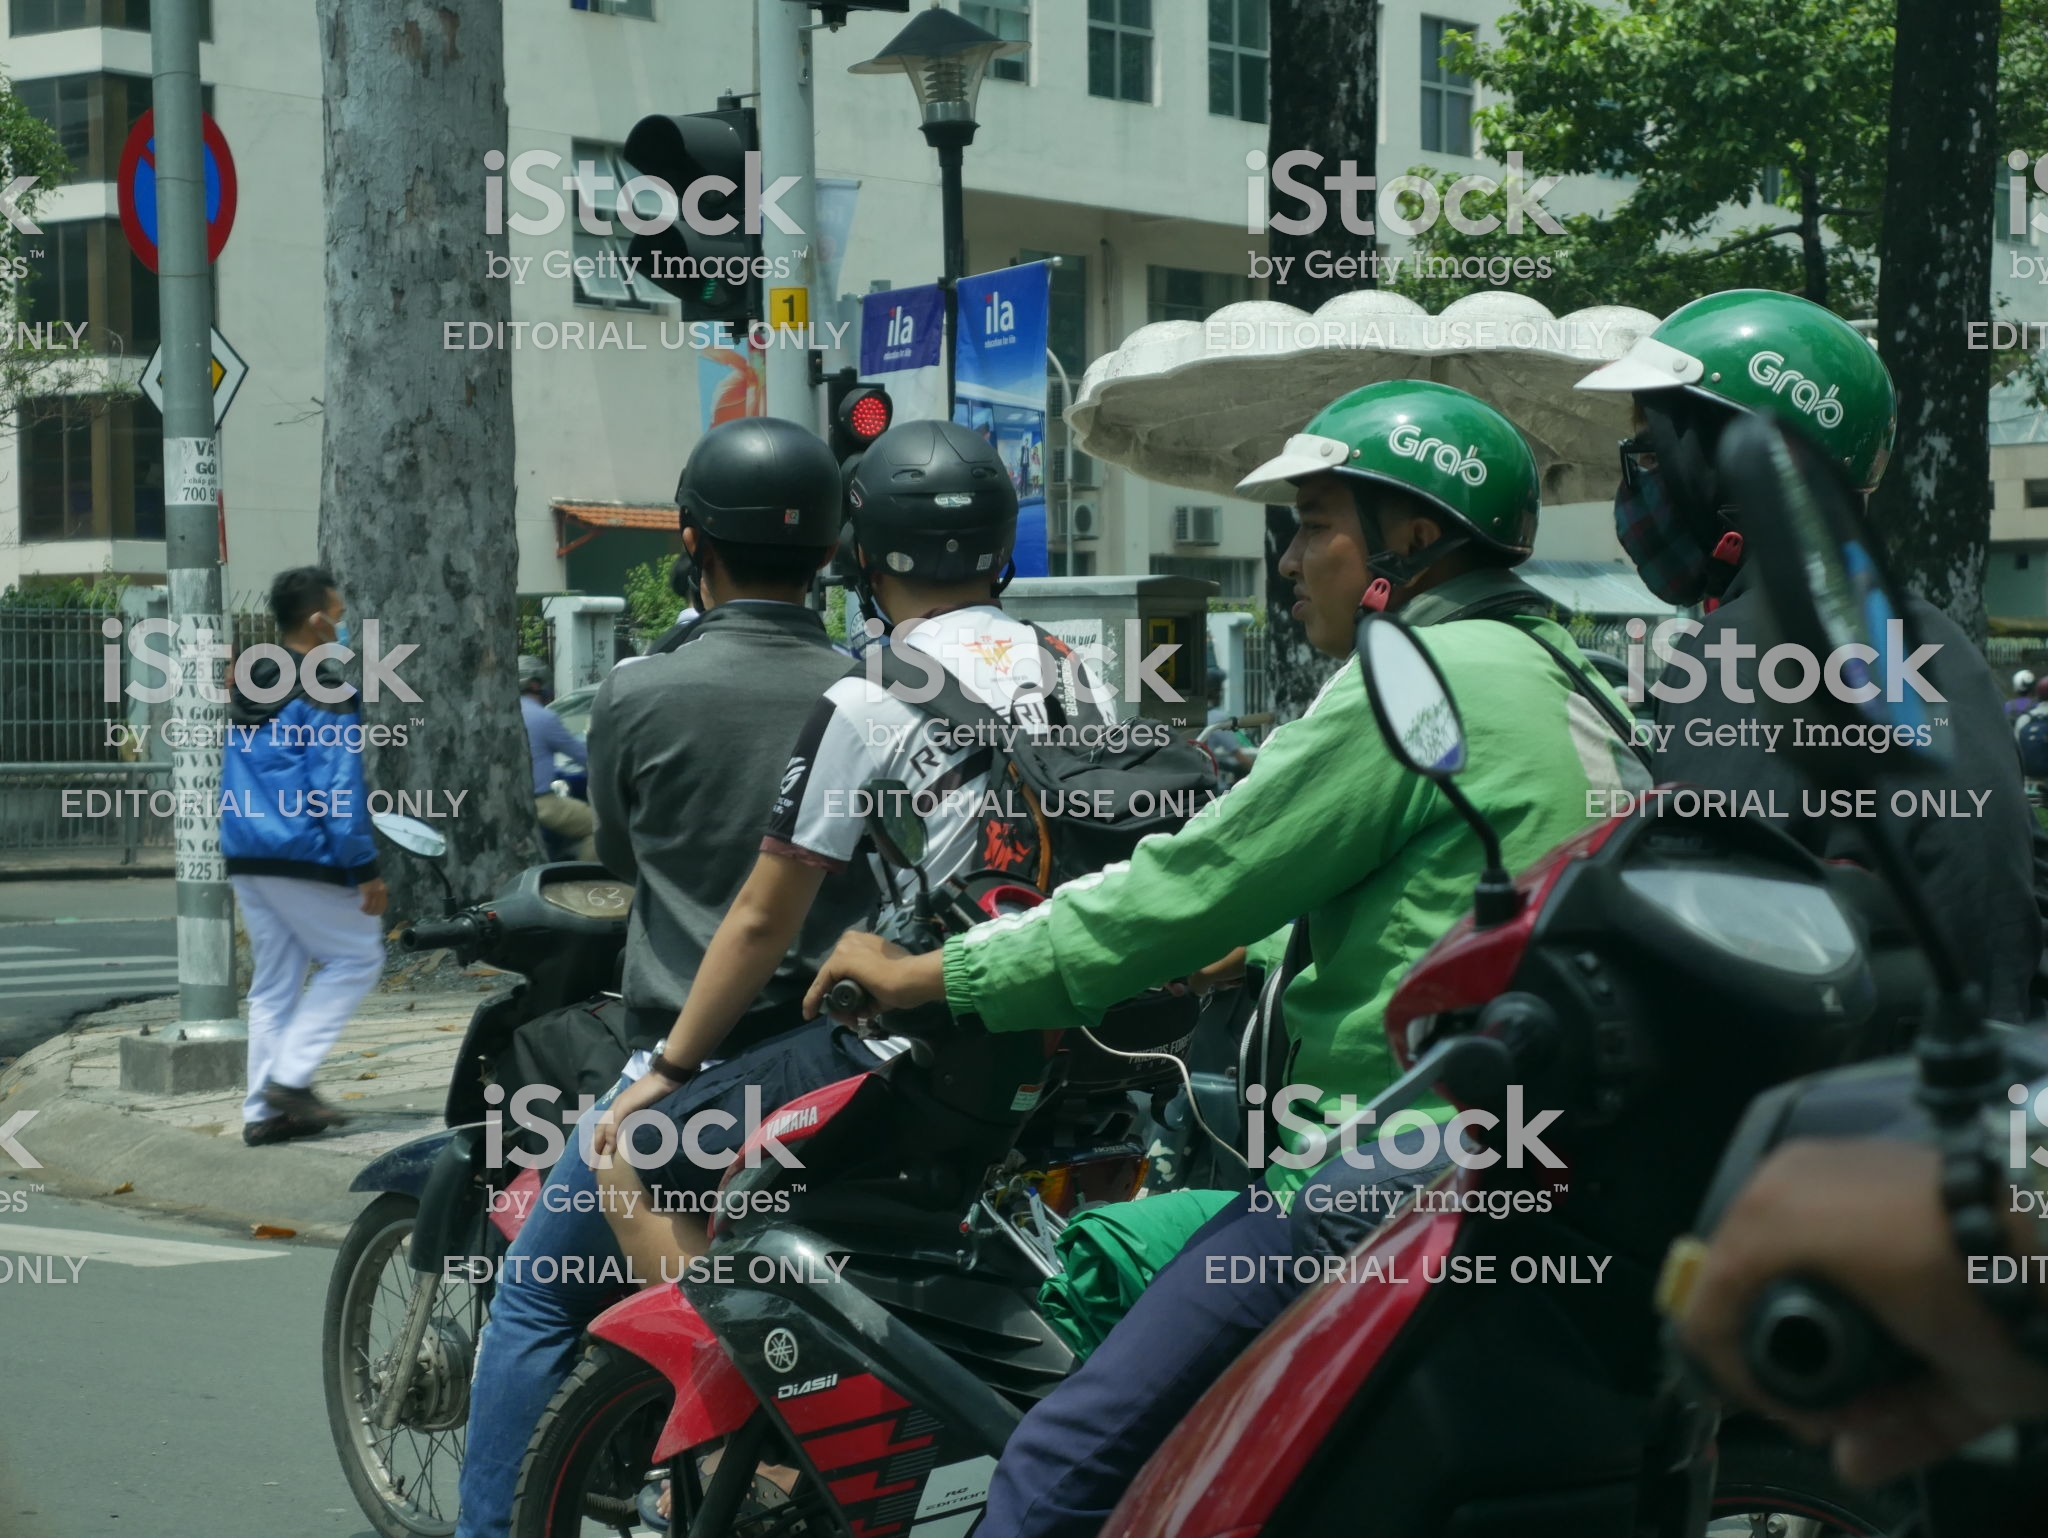helmet: (1623, 267, 1916, 465), (1326, 380, 1584, 543), (866, 417, 1040, 593), (670, 401, 838, 577)
